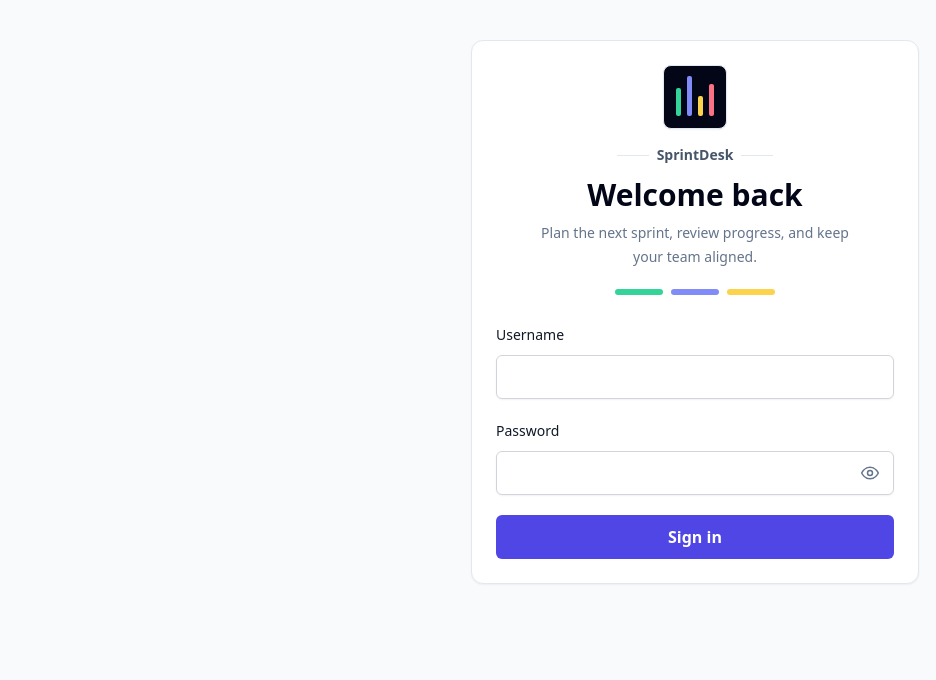
Test: LoginForm › submits valid credentials, stores the session, and navigates to dashboard
Type "emilys" into the field labelled "Username".
click(695, 377); type("emilys")  # box [496, 355, 894, 399]
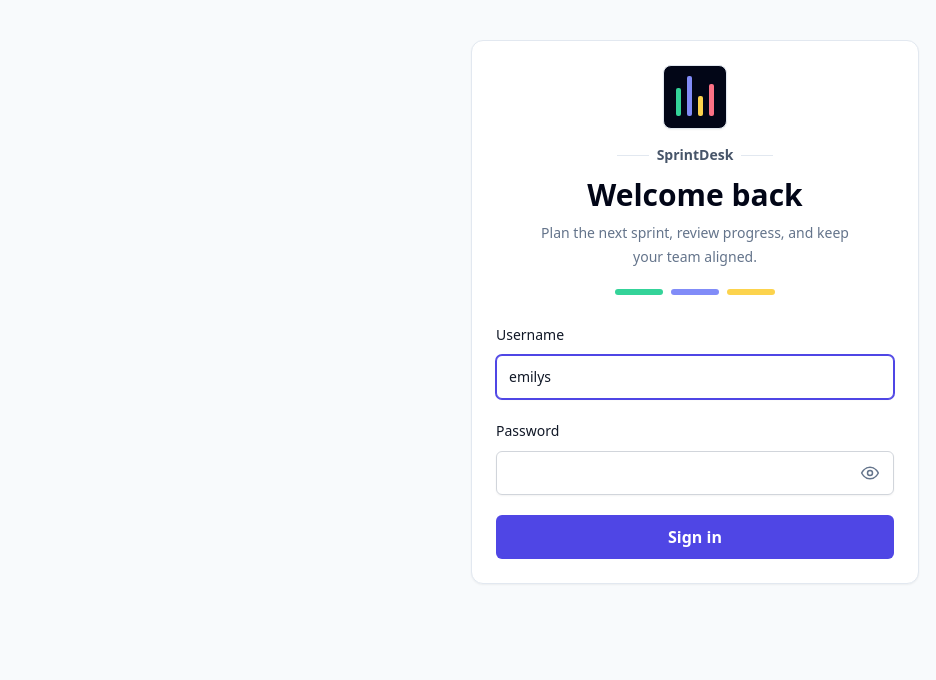
Type "emilyspass" into the password field labelled "Password".
click(695, 473); type("emilyspass")  # box [496, 451, 894, 495]
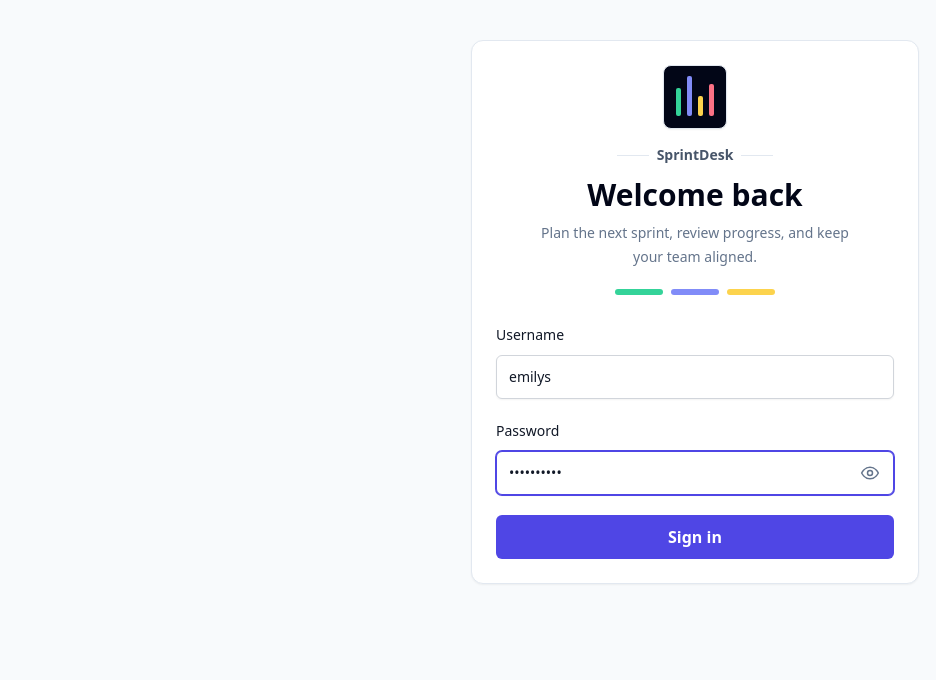
Click the button "Sign in".
click(695, 537)  # box [496, 515, 894, 559]
(page scrolled)
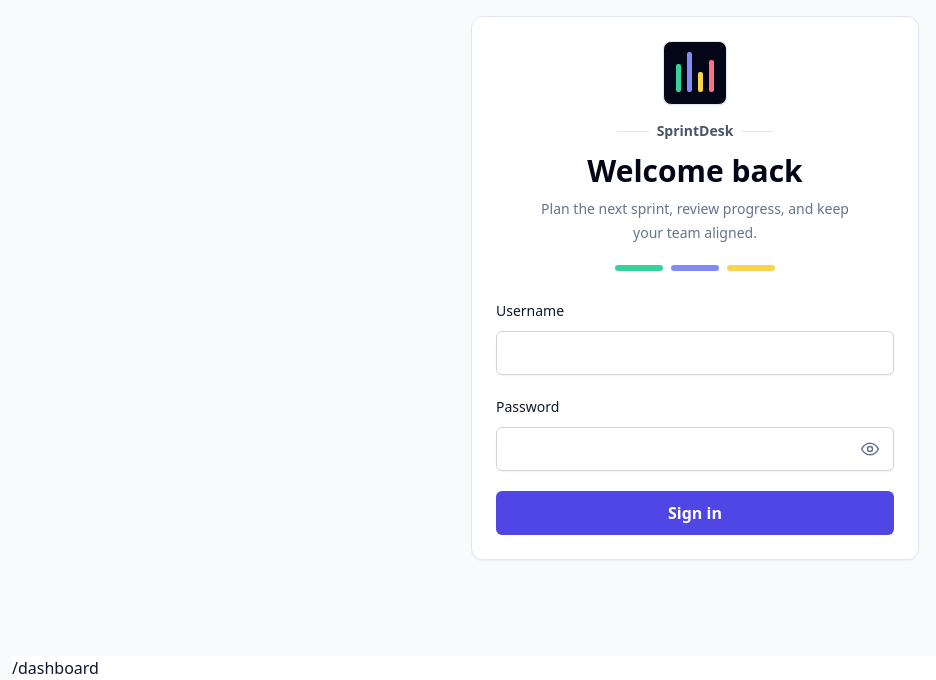
Expected: the text with test id "location" reads "/dashboard", [12, 657, 99, 679]
